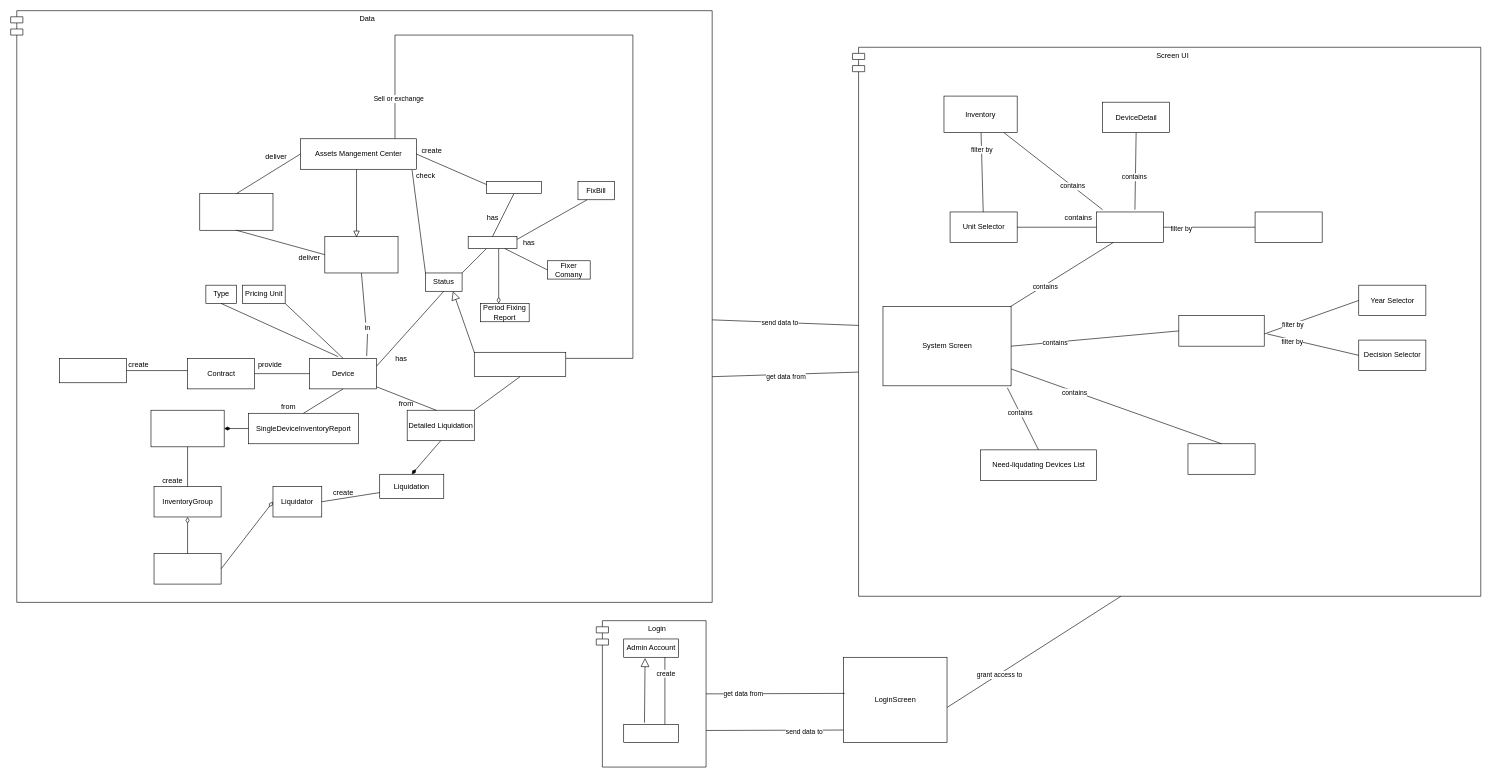
Image size: 1491x778. Some labels were removed from this diagram. Each missing label, with the centre of its shape:
Contract List: the point at 1288,226
DeliverableReport: the point at 236,211
Device List: the point at 1130,226
Fix Decide: the point at 513,187
Fix Report: the point at 492,242
Inventory Report: the point at 187,428
Liquidated Device List: the point at 1221,330
Personnel: the point at 187,568
Statistic: the point at 1221,458
Status: Disappeared: the point at 520,364
Supplier: the point at 93,370
System Account: the point at 651,733
Using Unit: the point at 361,254
